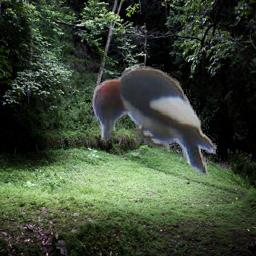Woodpecker: (88, 65, 218, 178)
